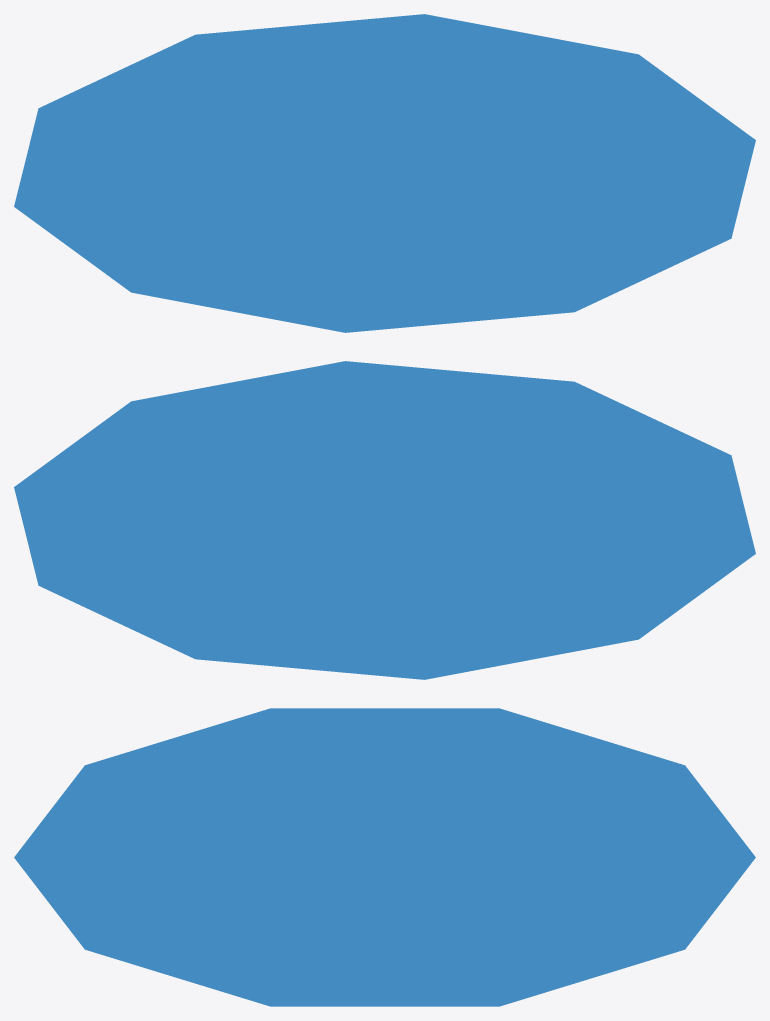
The model's file is POT_water.glb.
3 views of the same model, one above another, from view 1: azimuth 30°, elevation 25°; view 2: azimuth 150°, elevation 25°; view 3: azimuth 270°, elevation 25° (orthographic). The views are drawn at different scales.
Parts seen in each view (by area): view 1: PotWater; view 2: PotWater; view 3: PotWater.
Part boxes in pixels (x1,y1,x2,y2): PotWater: (14,14,755,332); PotWater: (14,361,755,679); PotWater: (14,708,755,1006).
Bounding box in the file's own units: 0.3442 × 0 × 0.362.
